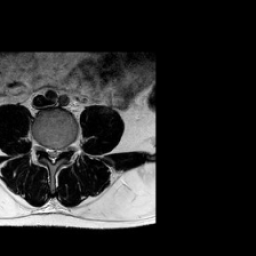CCS_normal: (49, 139, 55, 170)
LFS_stenosis: (61, 138, 69, 156)
LLS_stenosis: (55, 139, 61, 162)
RFS_normal: (37, 135, 43, 156)
RLS_stenosis: (43, 139, 49, 159)
